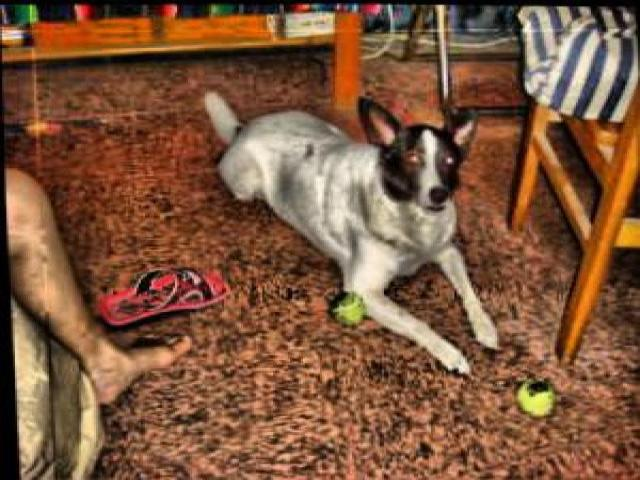tennis-ball: (328, 290, 367, 330), (512, 378, 550, 416)
